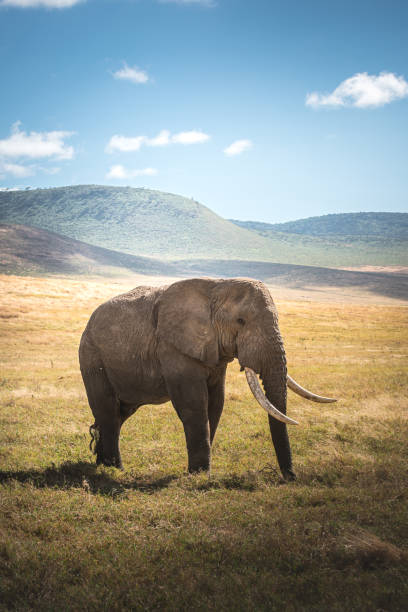africanelephant: (197, 274, 343, 441)
